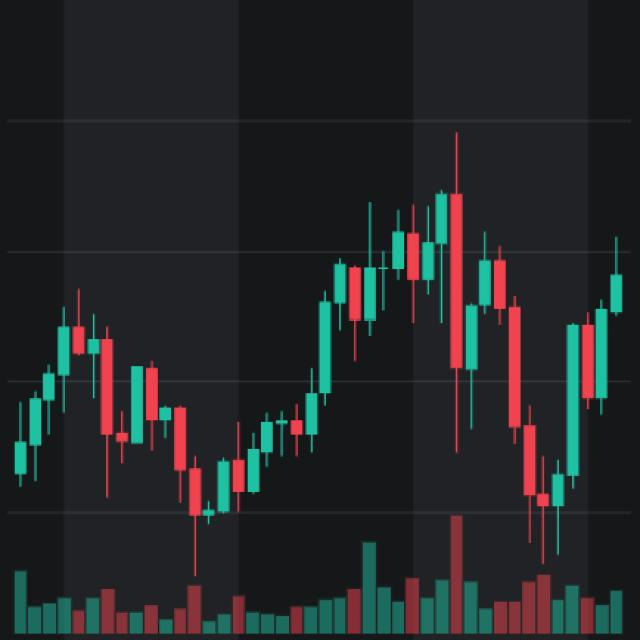Channel-up: (198, 147, 457, 573)
